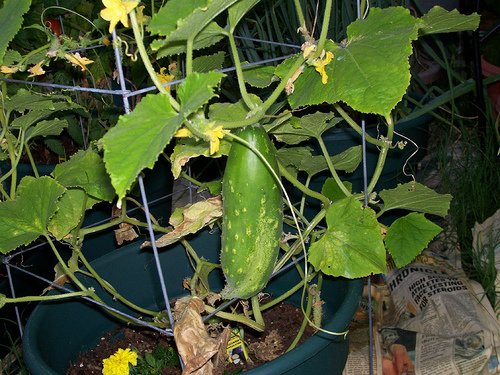cucumber: (220, 117, 285, 301)
